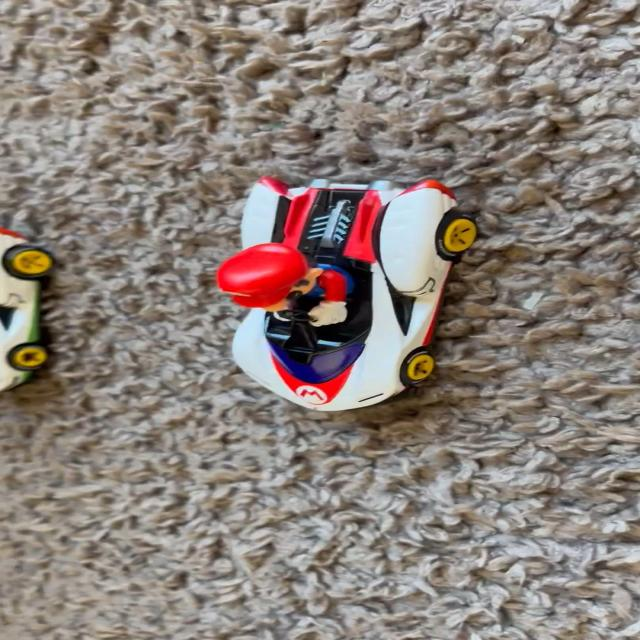mario: (212, 200, 479, 432)
yoshi: (0, 228, 69, 424)
